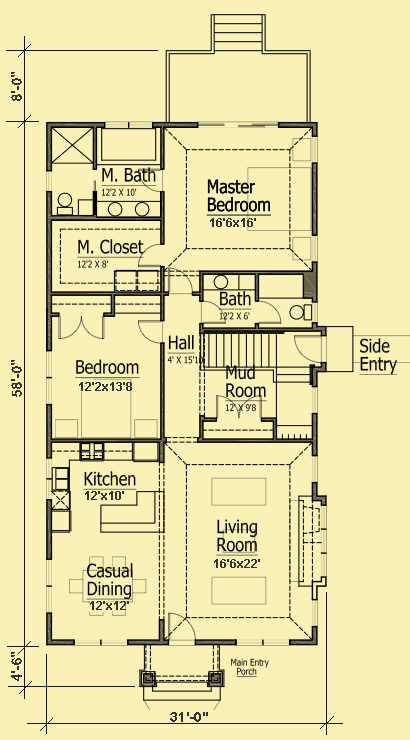dining_table: (67, 554, 148, 622)
door: (55, 310, 107, 344), (288, 330, 333, 366), (212, 392, 265, 421), (134, 319, 167, 352), (164, 262, 195, 293), (254, 299, 287, 328), (165, 612, 196, 641), (199, 299, 230, 325), (136, 243, 163, 270)
large_sink: (51, 188, 78, 219), (287, 301, 316, 325)
small_sink: (97, 201, 163, 217), (203, 272, 241, 292)
stairs: (194, 330, 286, 371)
twin_sink: (52, 464, 74, 494)
window: (101, 119, 163, 134), (198, 119, 281, 130), (43, 554, 56, 616), (234, 637, 295, 650), (70, 637, 127, 648), (311, 453, 320, 483)
